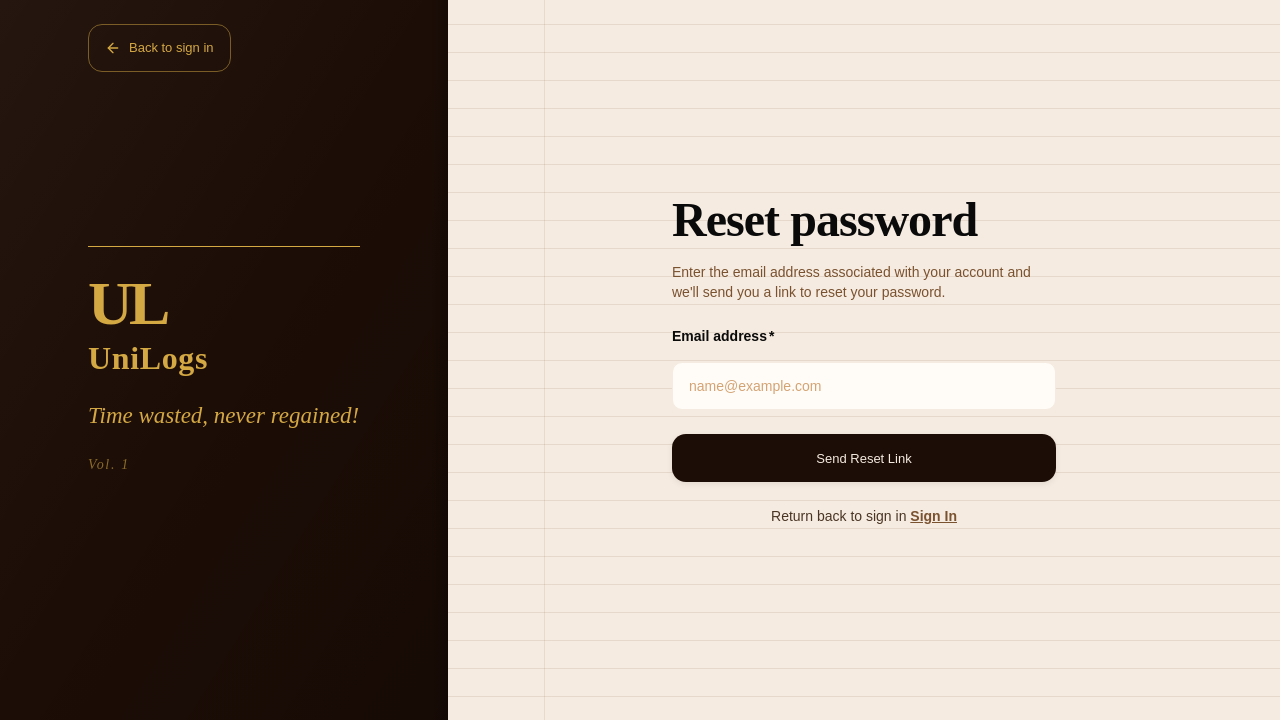
Test: ResetPasswordPage without a token › requests a reset link and shows the confirmation
This screenshot has width=1280, height=720.
Type "ada@example.test" into the field labelled "Email address*". click: (864, 386)
box: x1=672 y1=362 x2=1056 y2=410
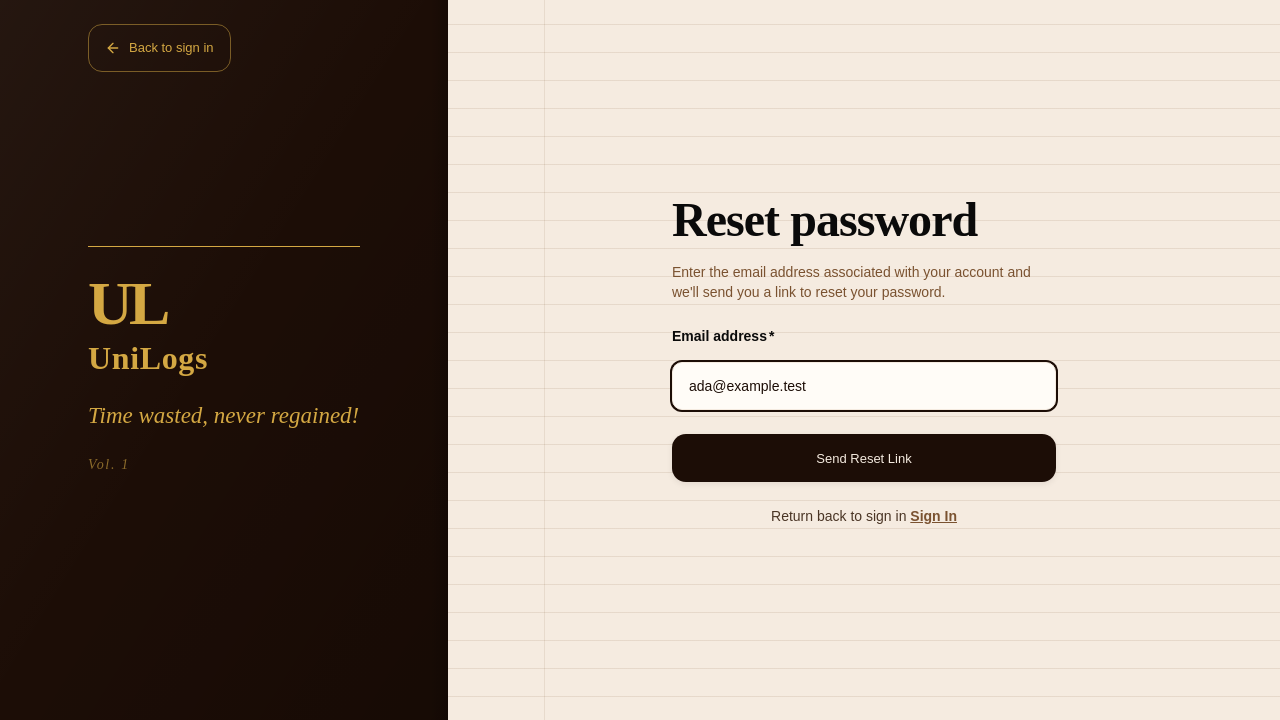
Click the button "Send Reset Link". click: (864, 458)
box: x1=672 y1=434 x2=1056 y2=482
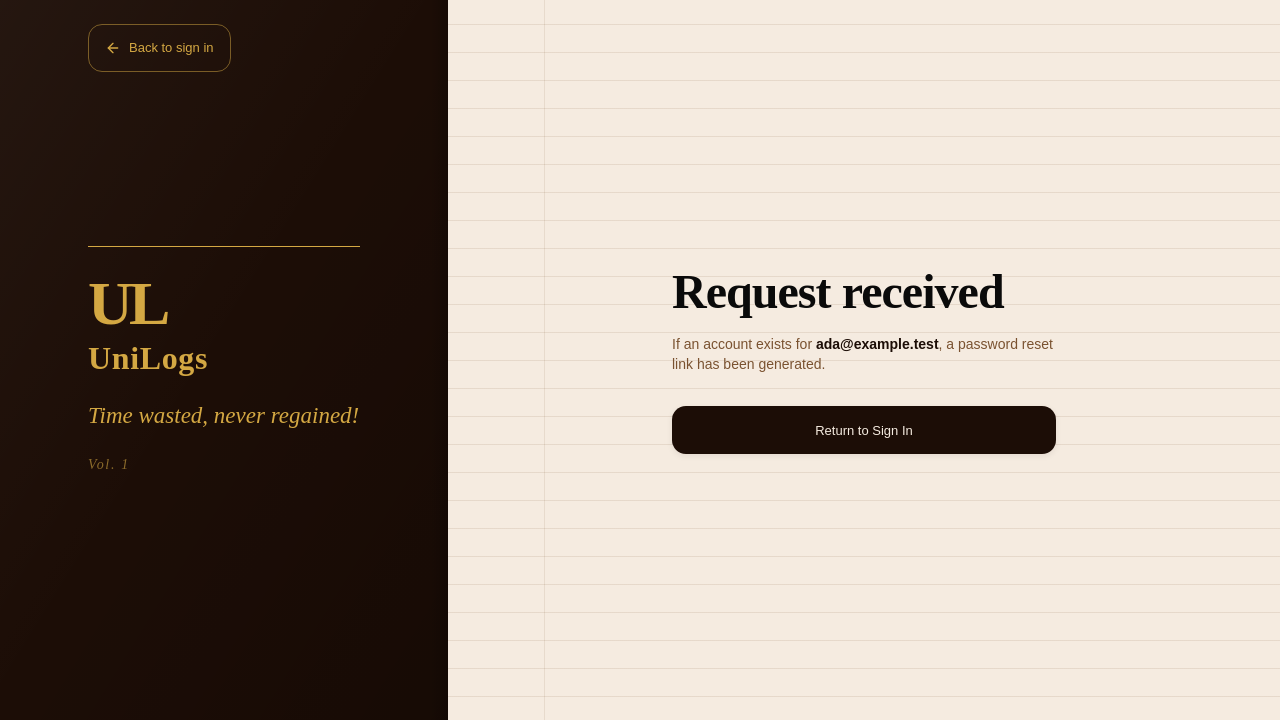
Expected: the heading "Request received" is shown, x1=672 y1=266 x2=1056 y2=318
